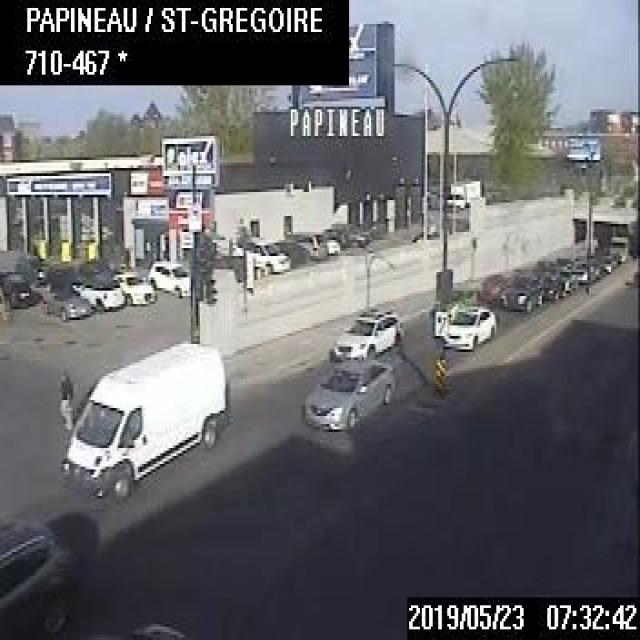pedestrian: (54, 371, 71, 426)
vehicle: (62, 336, 225, 496), (0, 518, 75, 638), (302, 361, 393, 427), (328, 304, 402, 360), (446, 302, 495, 349), (496, 269, 542, 312), (243, 234, 289, 274), (86, 619, 188, 637), (46, 282, 89, 320), (79, 274, 126, 308), (113, 269, 156, 305), (152, 256, 190, 296), (0, 268, 35, 308), (13, 253, 51, 283), (443, 178, 482, 206), (274, 239, 308, 266), (476, 270, 506, 300), (293, 232, 322, 259), (609, 229, 631, 263), (540, 270, 567, 297), (321, 230, 340, 258)
